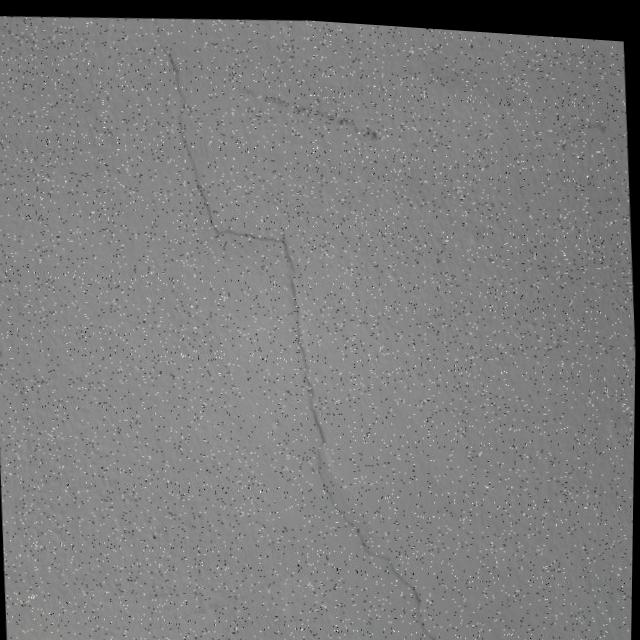Crack: (143, 8, 470, 640)
